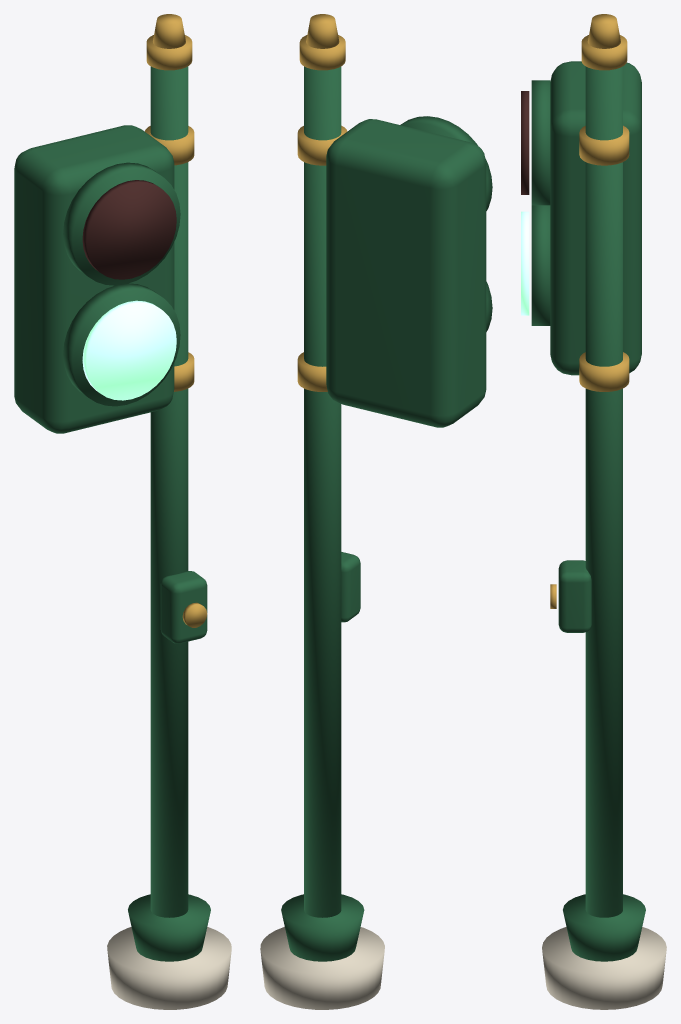
Rendered from street_trafficlight.glb.
3 renders of one model, left to right at view 1: azimuth 30°, elevation 25°; view 2: azimuth 150°, elevation 25°; view 3: azimuth 270°, elevation 25°, orthographic.
Visible parts, largest first — view 1: Head, Pole, Lens2.03, Lens1.71, Footing, Visor2.03, Visor1.71, Foot, ButtonBox, Cap, CapBall, Clamp2.2 (+1 smaller); view 2: Head, Pole, Footing, Foot, ButtonBox, Visor2.03, Cap, CapBall, Clamp2.2, Clamp1.6; view 3: Pole, Head, Footing, Foot, Visor2.03, Visor1.71, ButtonBox, Clamp2.2, Clamp1.6, Cap, CapBall, Lens1.71 (+1 smaller).
Part boxes in pixels (left/top/right/bottom): Head: left=14, top=125, right=174, bottom=433; Pole: left=150, top=66, right=188, bottom=917; Lens2.03: left=82, top=180, right=176, bottom=279; Lens1.71: left=82, top=300, right=176, bottom=400; Footing: left=107, top=927, right=231, bottom=1009; Visor2.03: left=63, top=162, right=180, bottom=285; Visor1.71: left=63, top=283, right=180, bottom=406; Foot: left=128, top=894, right=210, bottom=961; ButtonBox: left=160, top=571, right=207, bottom=643; Cap: left=146, top=35, right=192, bottom=70; CapBall: left=153, top=14, right=185, bottom=48; Clamp2.2: left=145, top=126, right=194, bottom=165; Head: left=326, top=119, right=486, bottom=427; Pole: left=304, top=66, right=341, bottom=917; Footing: left=260, top=927, right=384, bottom=1009; Foot: left=281, top=894, right=364, bottom=961; ButtonBox: left=341, top=552, right=360, bottom=622; Visor2.03: left=400, top=116, right=492, bottom=210; Cap: left=299, top=35, right=345, bottom=70; CapBall: left=306, top=14, right=339, bottom=48; Clamp2.2: left=297, top=125, right=347, bottom=165; Clamp1.6: left=297, top=352, right=327, bottom=391; Pole: left=585, top=66, right=622, bottom=917; Head: left=550, top=61, right=641, bottom=375; Footing: left=542, top=927, right=666, bottom=1009; Foot: left=563, top=894, right=645, bottom=961; Visor2.03: left=531, top=80, right=550, bottom=205; Visor1.71: left=531, top=205, right=550, bottom=325; ButtonBox: left=558, top=560, right=591, bottom=632; Clamp2.2: left=579, top=125, right=629, bottom=165; Clamp1.6: left=579, top=352, right=629, bottom=391; Cap: left=581, top=35, right=627, bottom=70; CapBall: left=587, top=14, right=620, bottom=48; Lens1.71: left=521, top=211, right=529, bottom=315.
Size of the model in its own units: 0.5457 by 2.54 by 0.3473.
